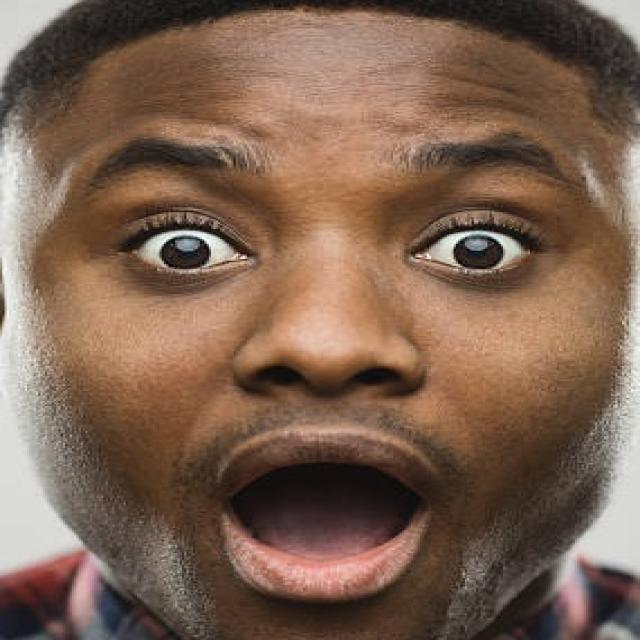Anxiety: (0, 2, 638, 638)
